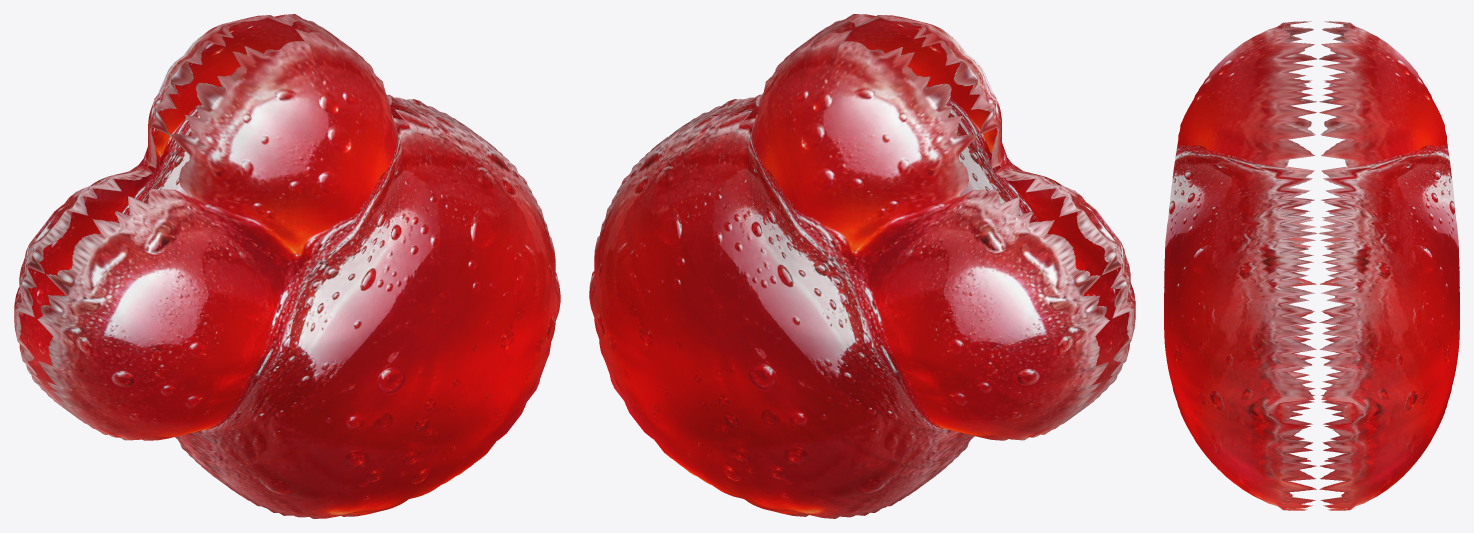
File: perlas.glb
3 renders of one model, left to right at view 1: azimuth 30°, elevation 25°; view 2: azimuth 150°, elevation 25°; view 3: azimuth 270°, elevation 25°, orthographic. The views are drawn at different scales.
Parts seen in each view (by area): view 1: perlas; view 2: perlas; view 3: perlas.
Part boxes in pixels (x1,y1,x2,y2): perlas: [14, 14, 560, 518]; perlas: [589, 14, 1135, 518]; perlas: [1164, 21, 1459, 510].
Bounding box in the file's own units: 1.98 × 1.83 × 1.13.
Materials: 1 (1 with a texture image).
